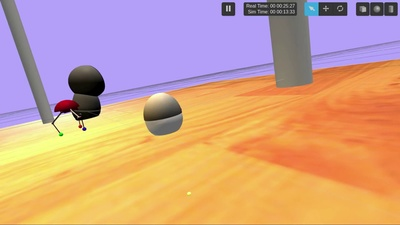mira_robot: (143, 93, 183, 136)
